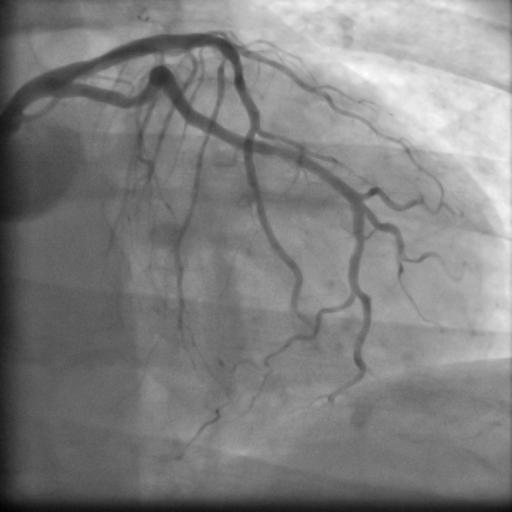Stenosis: (124, 93, 137, 109)
